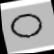no answer: (7, 9, 47, 42)
